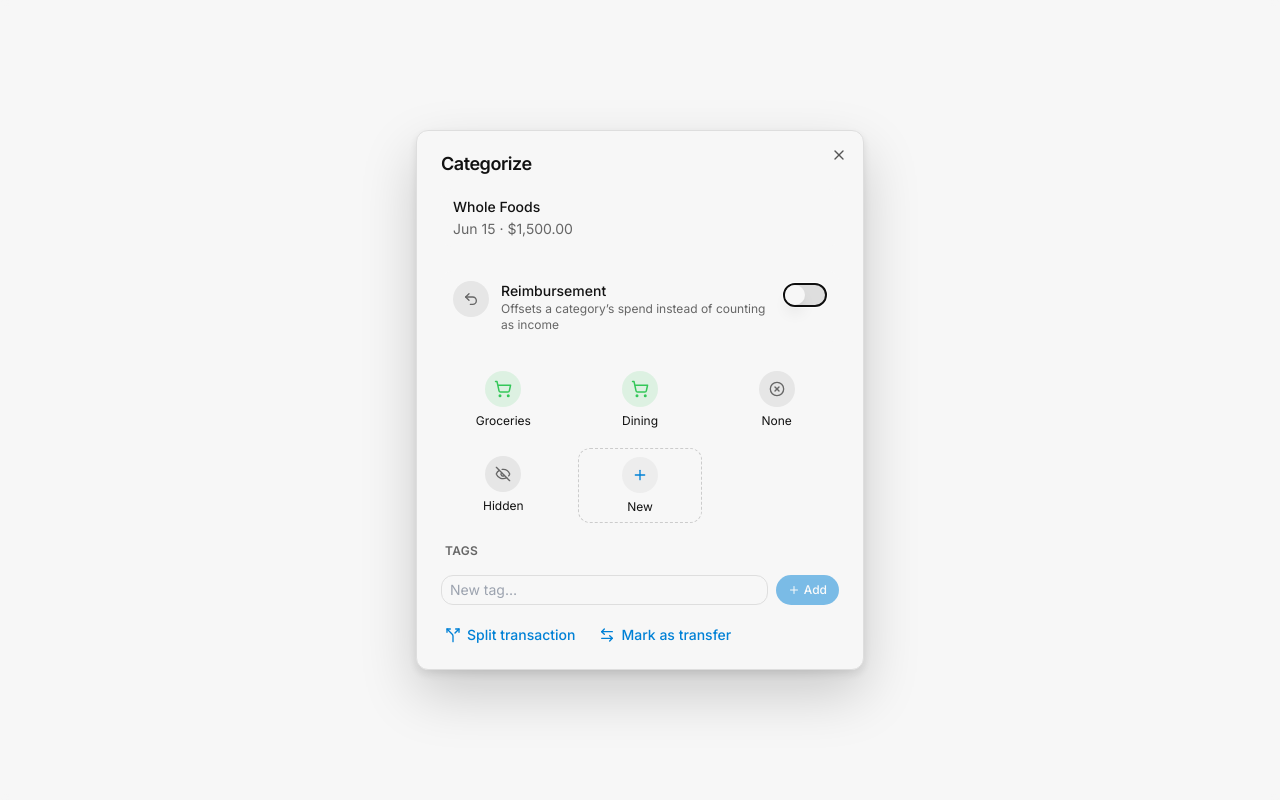
Test case: <CategoryPickerDialog> › hides Split while reimbursing (mutually exclusive)
This screenshot has width=1280, height=800.
Expected: the button "Split transaction" is shown, [441,625,580,645]
What coordinates should you click on to do the following:
click the switch named "Reimbursement"
I would click on:
 (805, 295)
Its box is [783,283,827,307].
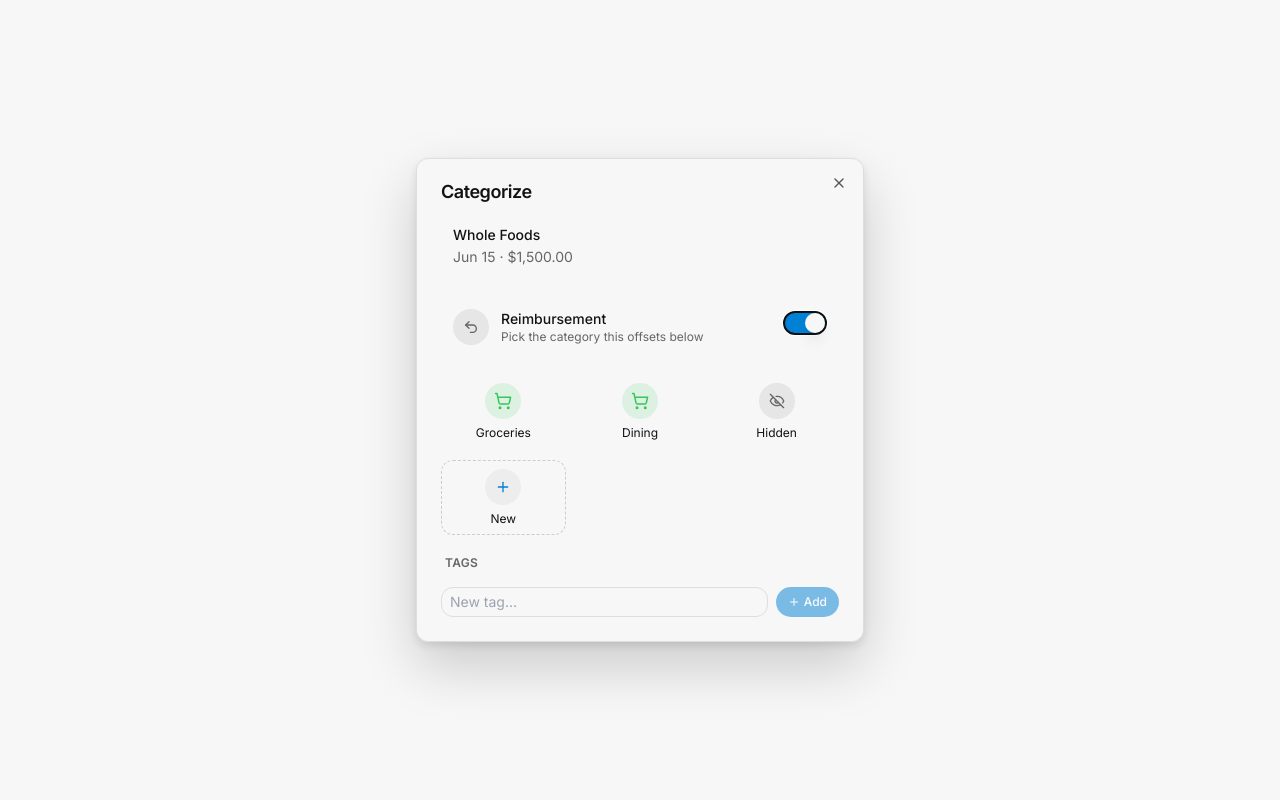
Result: the button "Split transaction" is gone
